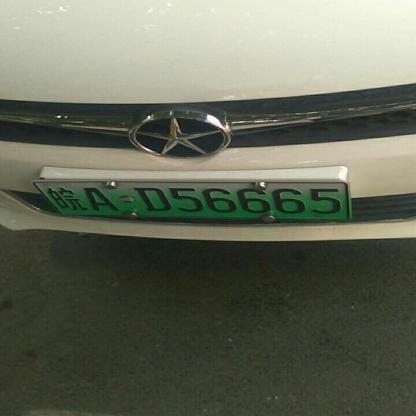lp: (62, 183, 348, 217)
